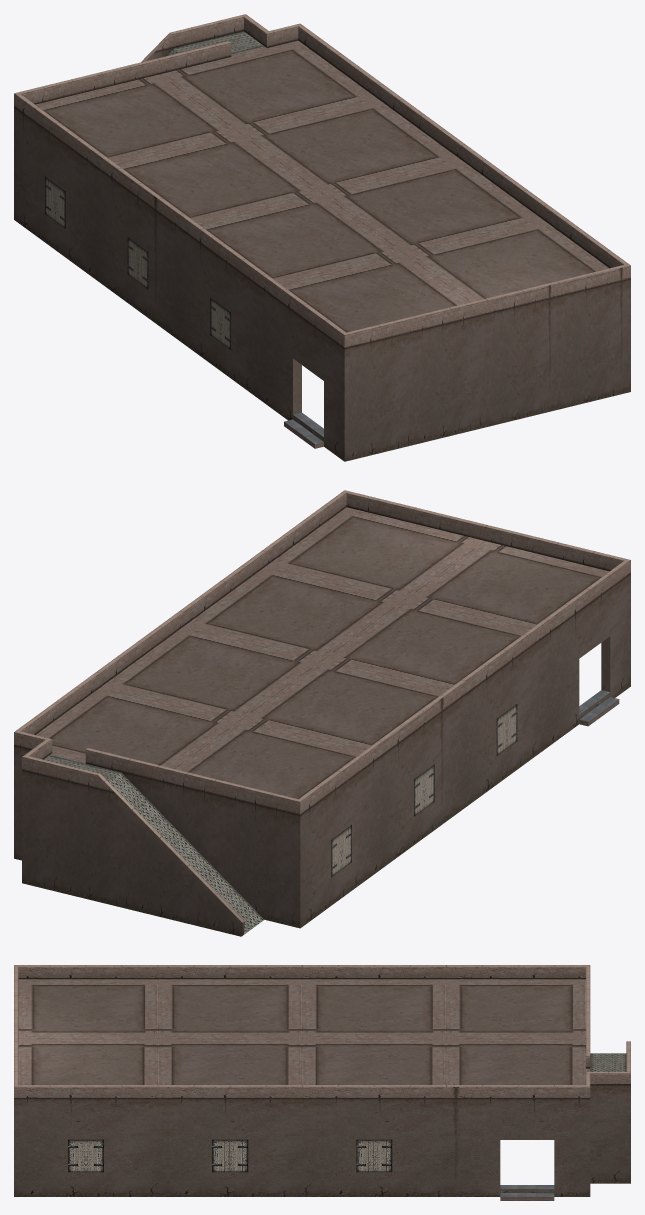
The model's file is BarracksExt.glb.
3 views of the same model, one above another, from view 1: azimuth 30°, elevation 25°; view 2: azimuth 150°, elevation 25°; view 3: azimuth 270°, elevation 25° (orthographic). The views are drawn at different scales.
Visible parts, largest first — view 1: BARRACKSEXT; view 2: BARRACKSEXT; view 3: BARRACKSEXT.
Part boxes in pixels (x1,y1,x2,y2): BARRACKSEXT: [14, 14, 630, 461]; BARRACKSEXT: [14, 490, 630, 936]; BARRACKSEXT: [14, 965, 630, 1200].
Bounding box in the file's own units: 17 × 6.75 × 34.25.
8 materials, 8 textured.
